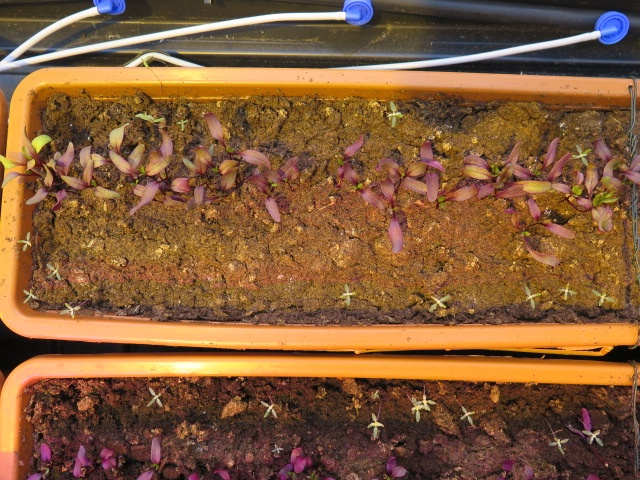crop: (2, 122, 61, 207), (588, 133, 639, 231), (454, 143, 533, 205), (202, 108, 270, 180), (525, 139, 585, 218), (60, 138, 117, 213), (130, 121, 173, 219), (379, 141, 449, 201), (506, 204, 567, 269), (339, 130, 386, 212), (108, 122, 144, 209), (177, 121, 211, 206), (247, 174, 289, 222), (24, 439, 62, 479), (133, 433, 165, 480), (383, 178, 400, 260), (276, 443, 313, 479), (74, 441, 97, 476), (100, 444, 118, 478)
weed: (590, 283, 617, 309), (365, 409, 385, 444), (424, 292, 452, 314), (386, 98, 404, 131), (522, 282, 542, 311), (144, 383, 164, 411), (546, 435, 569, 459), (14, 228, 33, 257), (556, 279, 578, 304), (458, 403, 478, 429), (339, 281, 358, 308), (258, 398, 279, 422), (58, 299, 82, 320), (20, 285, 39, 308), (45, 259, 62, 283), (270, 438, 286, 458)
